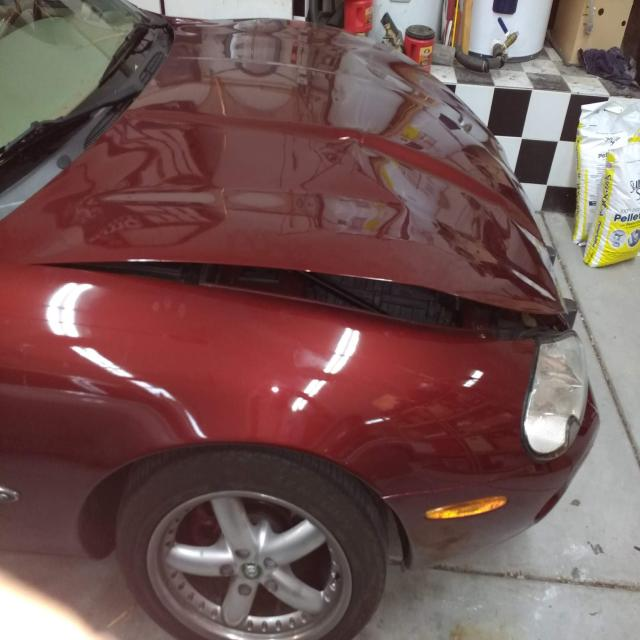crush: (34, 143, 570, 341)
